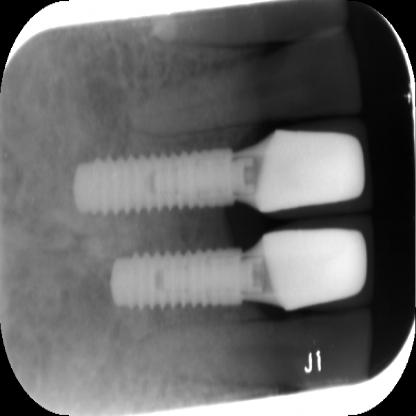ITI: (63, 136, 242, 225), (111, 245, 246, 317)
